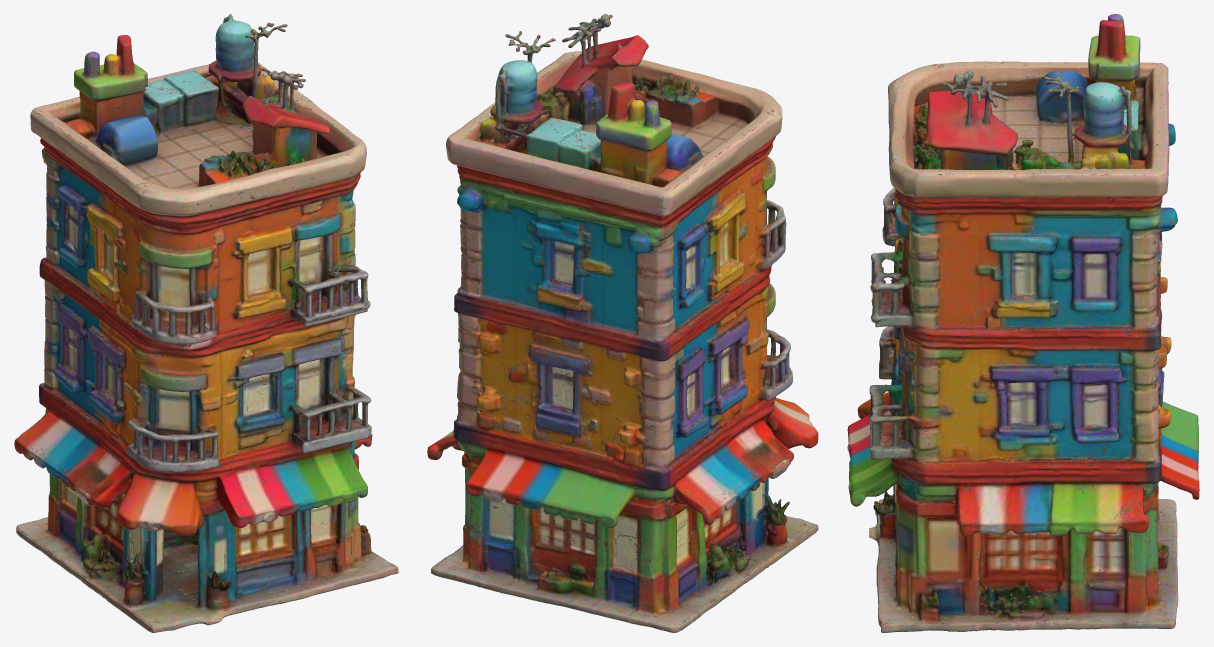
File: corner-guilding.glb
The picture shows the model from 3 angles, left to right: view 1: azimuth 30°, elevation 25°; view 2: azimuth 150°, elevation 25°; view 3: azimuth 270°, elevation 25°; orthographic projection. The views are drawn at different scales.
Size of the model in its own units: 1.17 by 2 by 1.21.
Materials: 1 (1 with a texture image).
